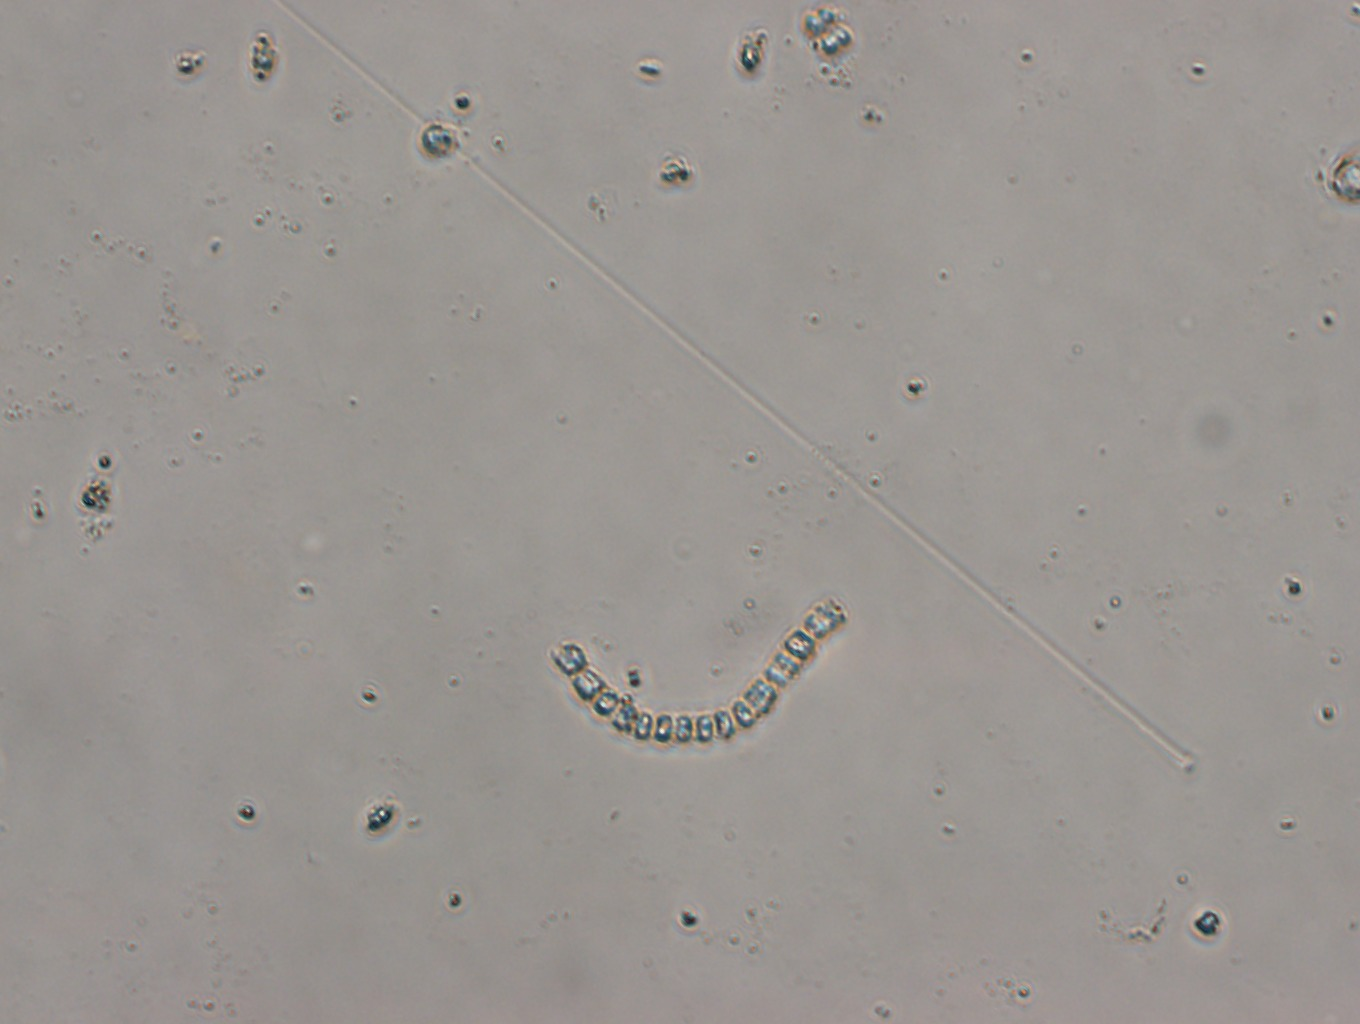skeletonema: (549, 596, 853, 751)
